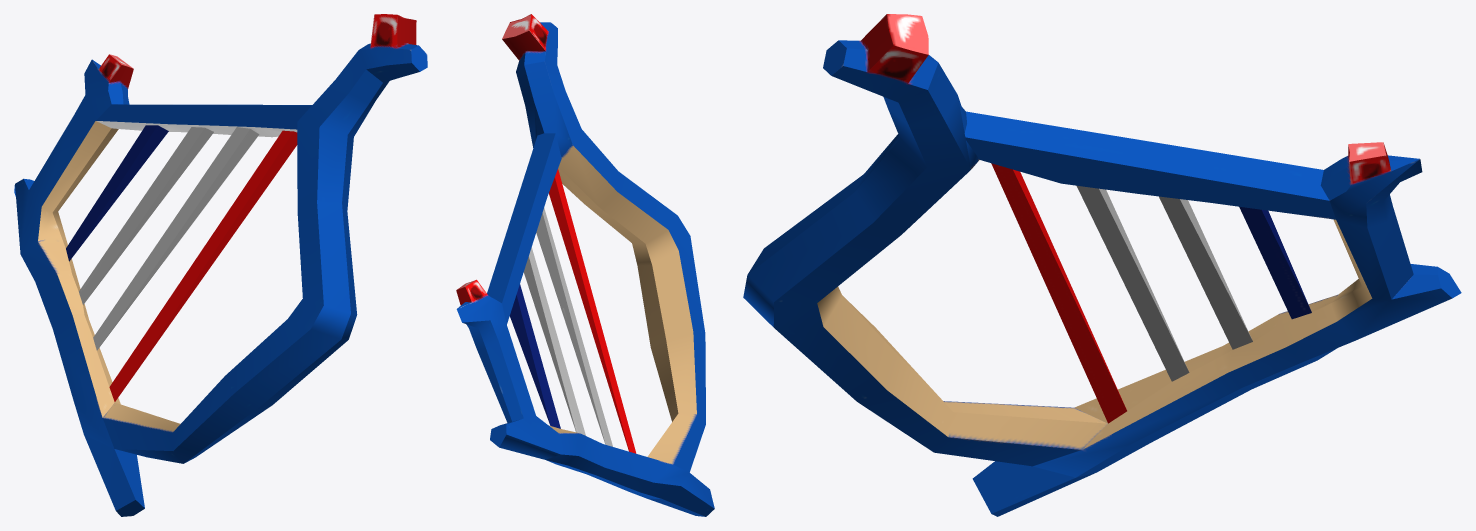
File: Arpa2_000005.obj
3 views of the same model, side by side, from view 1: azimuth 30°, elevation 25°; view 2: azimuth 150°, elevation 25°; view 3: azimuth 270°, elevation 25° (orthographic). The views are drawn at different scales.
Parts seen in each view (by area): view 1: a2_Arpa_1:pCube7; view 2: a2_Arpa_1:pCube7; view 3: a2_Arpa_1:pCube7.
Boxes of the visible parts, x1,y1,x2,y2 form: a2_Arpa_1:pCube7: (14,14,427,516); a2_Arpa_1:pCube7: (456,14,714,516); a2_Arpa_1:pCube7: (743,14,1461,516).
Size of the model in its own units: 4.29 by 7.37 by 7.36.
